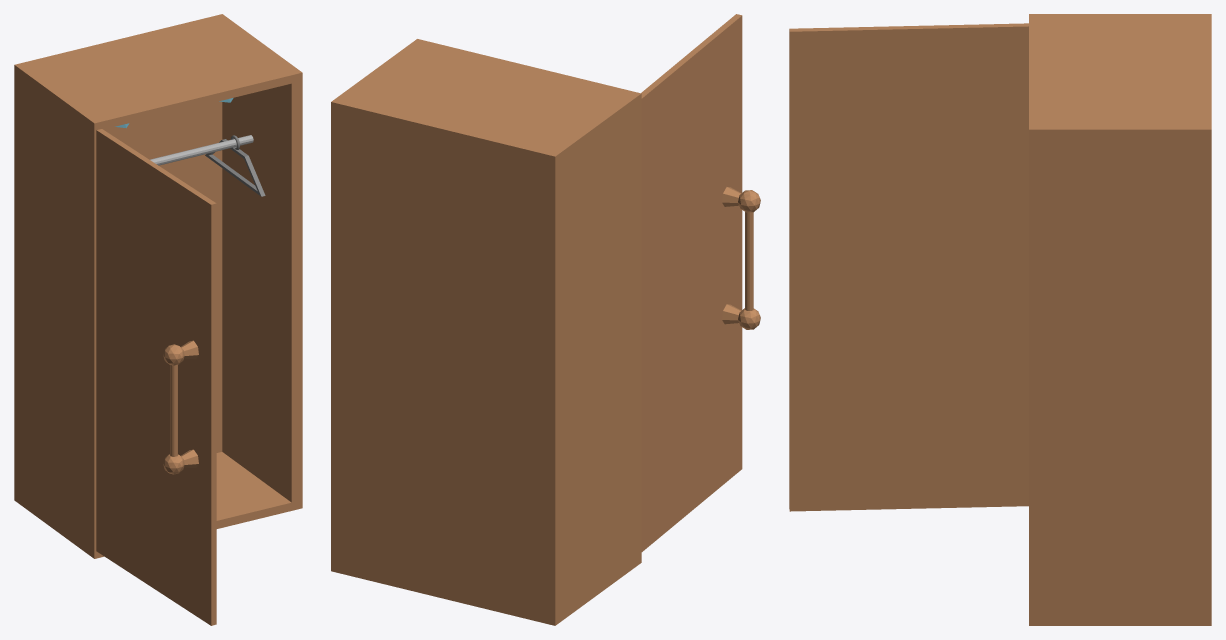
Rendered from BasicCloset1.fbx.
The picture shows the model from 3 angles, left to right: view 1: azimuth 30°, elevation 25°; view 2: azimuth 150°, elevation 25°; view 3: azimuth 270°, elevation 25°; orthographic projection. The views are drawn at different scales.
Visible parts, largest first — view 1: MainCloset, ClosetDoor; view 2: MainCloset, ClosetDoor; view 3: ClosetDoor, MainCloset.
Part boxes in pixels (bbox=[...]): MainCloset: bbox=[14, 14, 302, 558]; ClosetDoor: bbox=[96, 129, 216, 625]; MainCloset: bbox=[331, 39, 641, 625]; ClosetDoor: bbox=[641, 14, 760, 551]; ClosetDoor: bbox=[789, 23, 1028, 511]; MainCloset: bbox=[1029, 14, 1211, 625].
Size of the model in its own units: 463 by 600 by 328.
